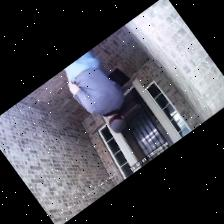person: (64, 51, 124, 132)
